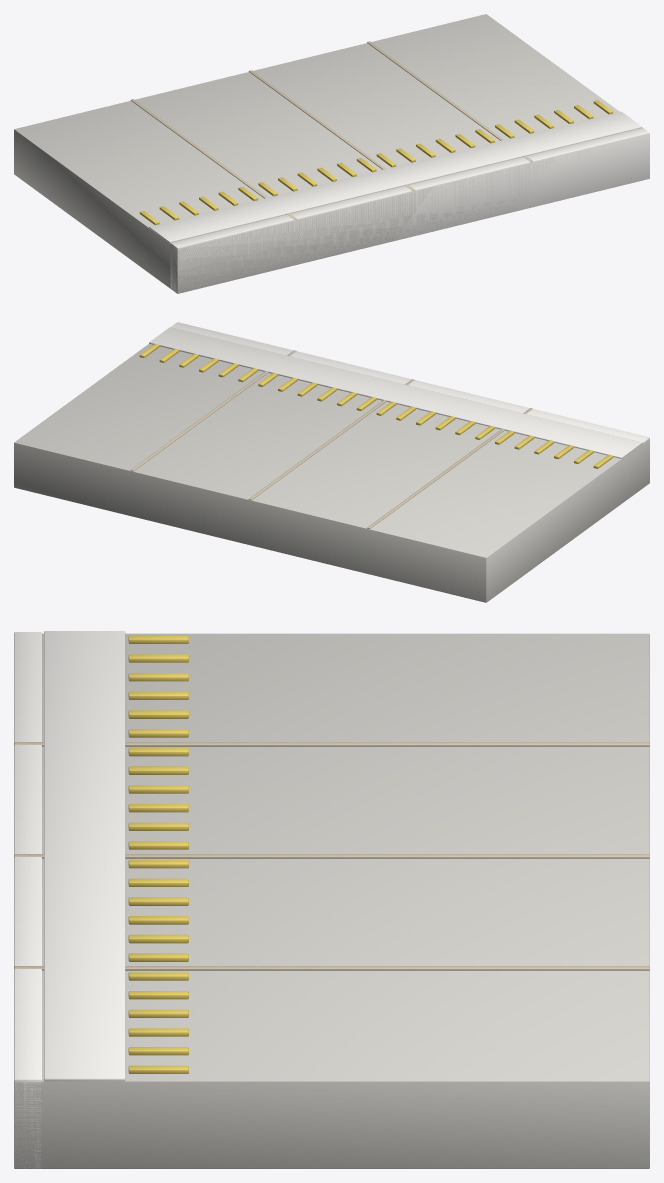
Rendered from th41_bahnsteigkante.glb.
The picture shows the model from 3 angles, top to bottom: view 1: azimuth 30°, elevation 25°; view 2: azimuth 150°, elevation 25°; view 3: azimuth 270°, elevation 25°; orthographic projection. The views are drawn at different scales.
Visible parts, largest first — view 1: Cube, Cube.001, Cube.002, Cube.028, Cube.029, Cube.027; view 2: Cube, Cube.002, Cube.001, Cube.028, Cube.029, Cube.027; view 3: Cube, Cube.002, Cube.001, Cube.027, Cube.028, Cube.029.
Boxes of the visible parts, x1,y1,x2,y2 form: Cube: [14, 14, 619, 293]; Cube.001: [170, 127, 649, 293]; Cube.002: [149, 111, 642, 242]; Cube.028: [248, 70, 415, 191]; Cube.029: [367, 41, 533, 162]; Cube.027: [130, 99, 296, 219]; Cube: [14, 343, 649, 602]; Cube.002: [149, 327, 642, 458]; Cube.001: [171, 322, 649, 443]; Cube.028: [248, 379, 414, 500]; Cube.029: [130, 350, 296, 471]; Cube.027: [367, 408, 532, 529]; Cube: [14, 633, 649, 1168]; Cube.002: [44, 631, 125, 1081]; Cube.001: [14, 632, 42, 1168]; Cube.027: [14, 742, 649, 746]; Cube.028: [14, 854, 649, 858]; Cube.029: [14, 966, 649, 970].
Size of the model in its own units: 6 by 0.58 by 3.6.
